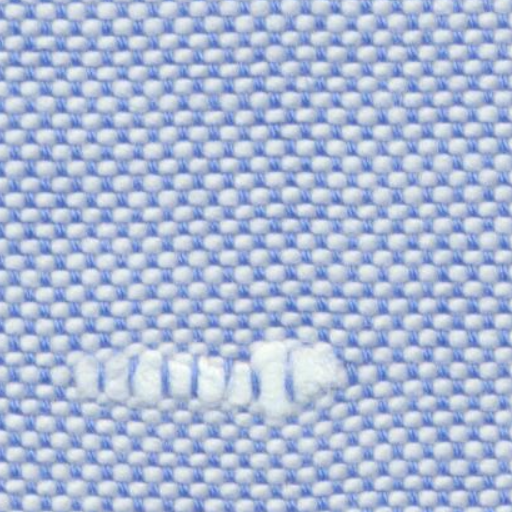DaiSha: (68, 314, 372, 438)
